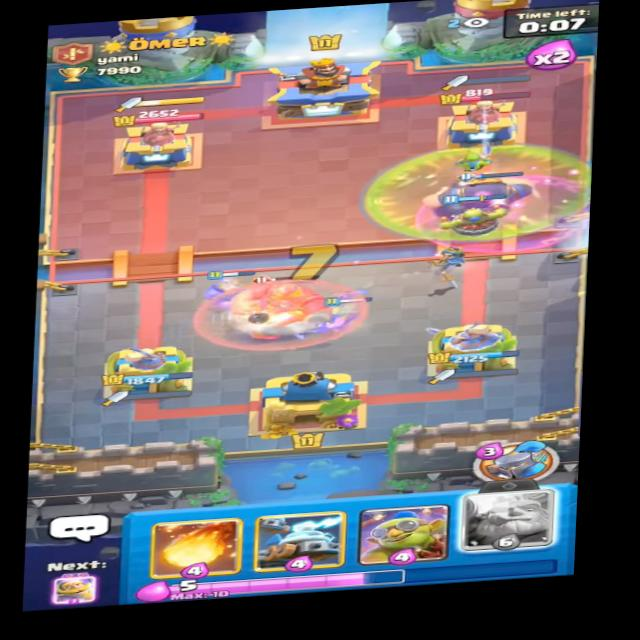evo-royal-giant: (215, 269, 344, 336)
